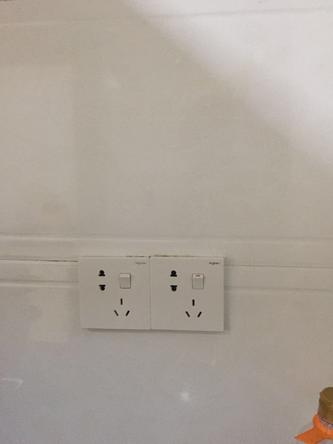switch: (182, 268, 214, 289), (116, 266, 137, 291)
